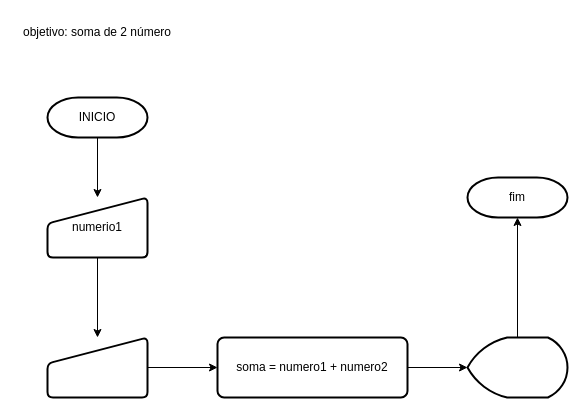
Some shapes in this 585 by 415 pixel diagram are drawn without their labels. The shapes that lost their labels are listed below. From the top down, each one's box as (x1, y1, x2, y2) in pixels, then its label:
(46, 336, 148, 398): numerio2
(466, 336, 568, 398): soma
